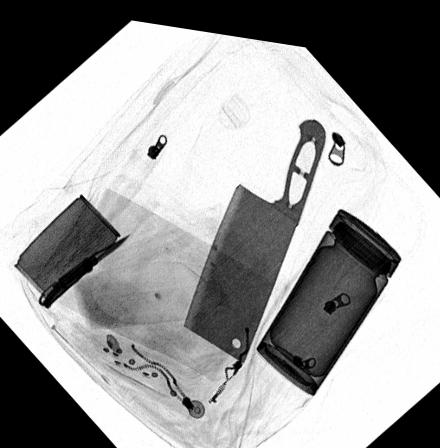Knife: (183, 108, 325, 355), (36, 228, 130, 306)
